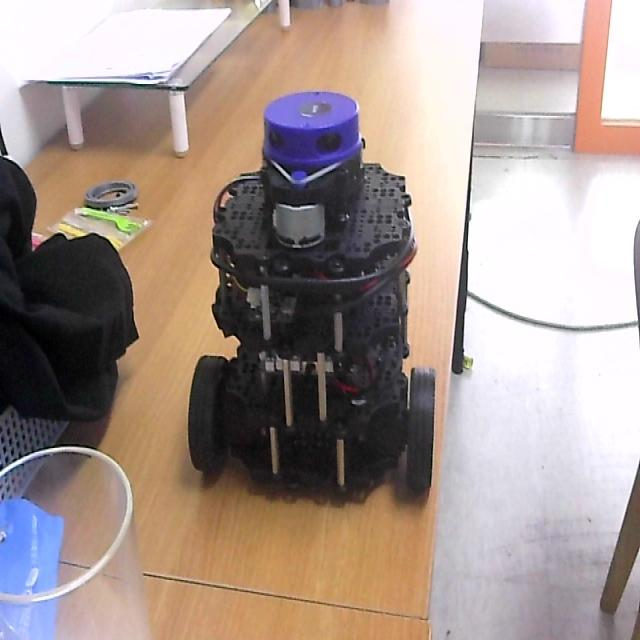turtle: (190, 84, 438, 506)
